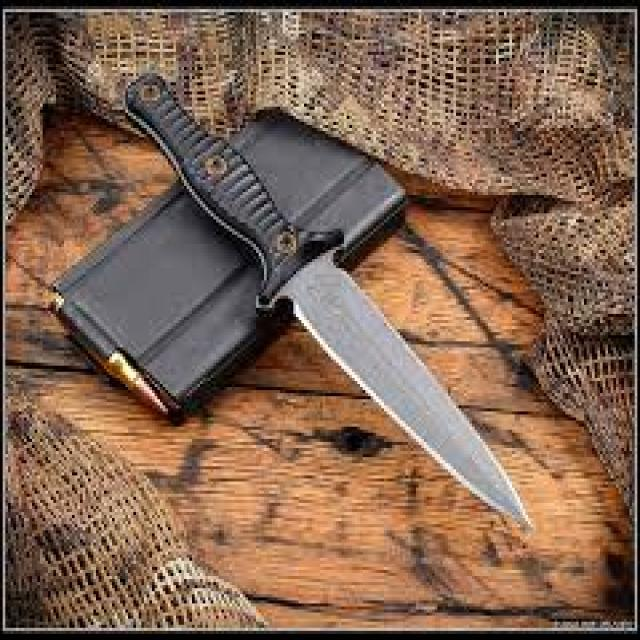Gun: (108, 59, 553, 548)
